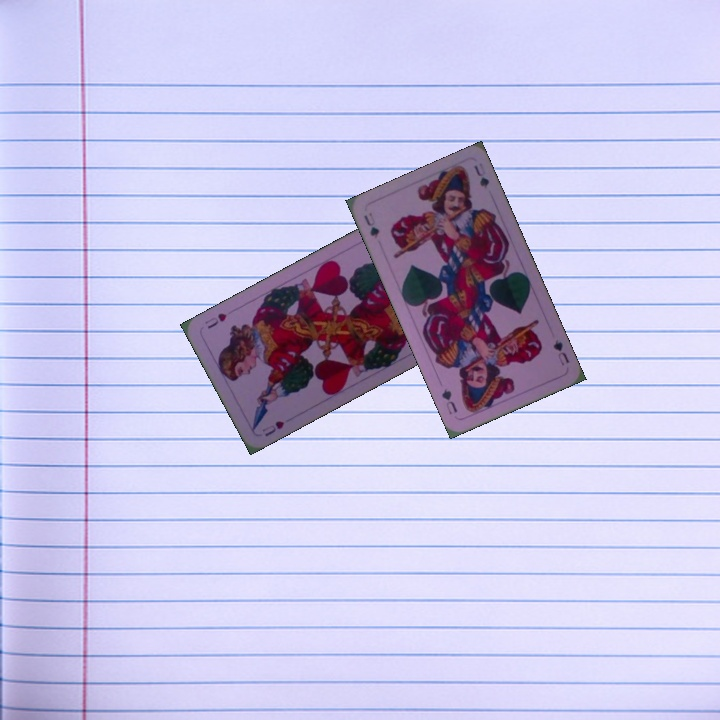GU: (549, 336, 572, 368), (360, 208, 382, 241)
HU: (258, 416, 287, 439)
